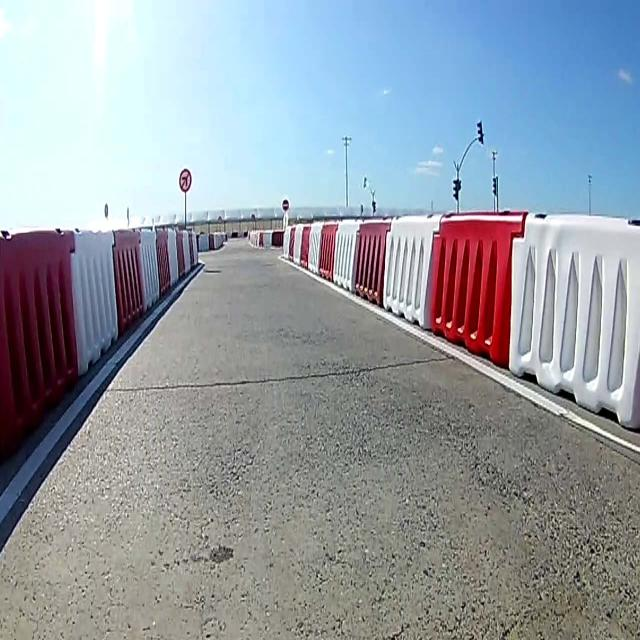girisyok: (282, 199, 289, 211)
soladonulmez: (178, 168, 192, 193)
